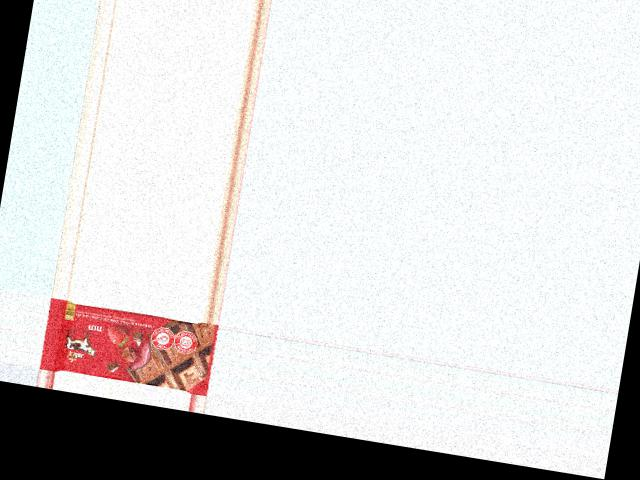chocolate: (38, 297, 218, 395)
